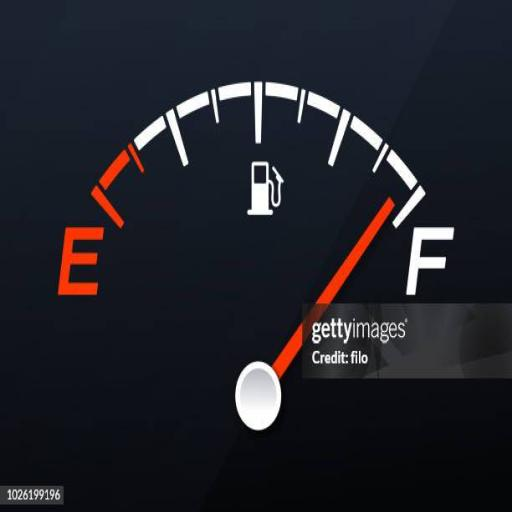empty: (58, 220, 106, 298)
fuel_icon: (246, 155, 283, 215)
full: (405, 218, 454, 296)
guage_area: (44, 66, 476, 482)
needle_center: (232, 356, 287, 432)
needle_tip: (381, 195, 398, 221)
